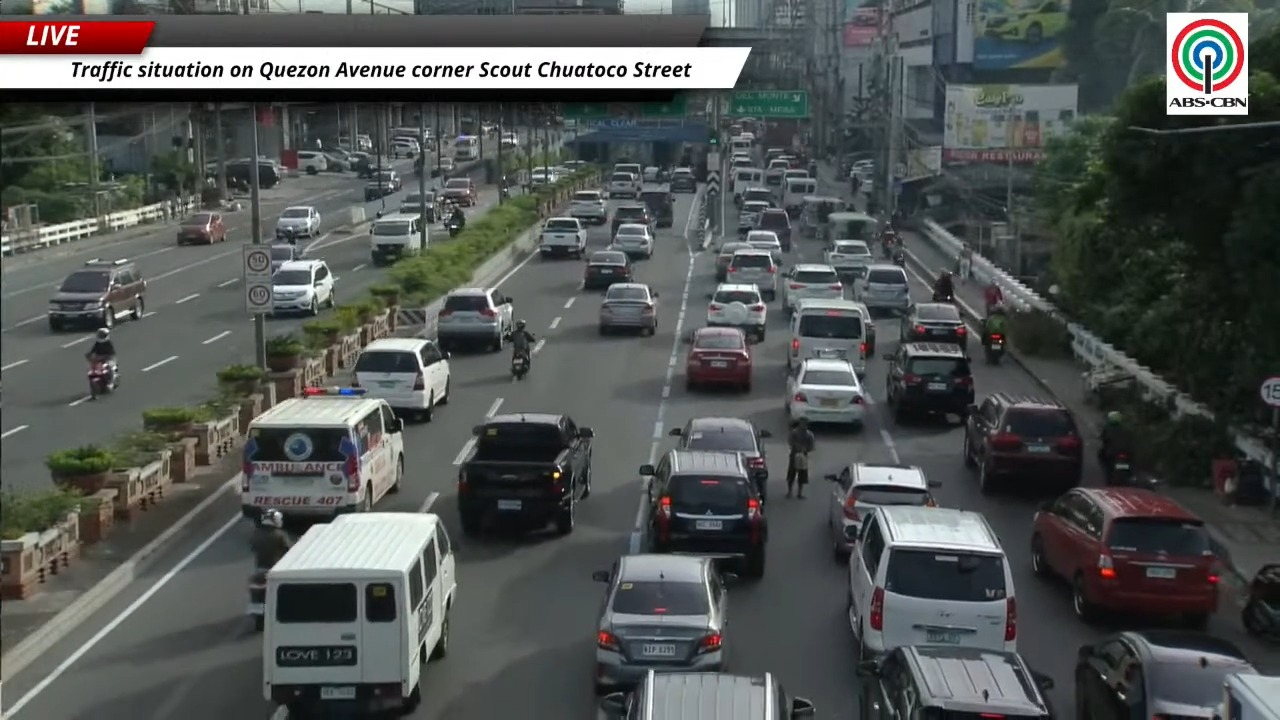bus: (454, 135, 479, 161)
car: (1031, 488, 1219, 626), (848, 506, 1016, 660), (592, 554, 727, 692), (1075, 629, 1257, 719), (640, 450, 767, 578), (856, 645, 1061, 719), (964, 392, 1083, 492), (824, 463, 940, 559), (600, 671, 814, 719), (669, 417, 770, 498), (352, 337, 450, 420), (884, 342, 974, 421), (47, 259, 145, 331), (788, 298, 876, 375), (784, 358, 866, 428), (437, 287, 513, 351), (686, 327, 752, 391), (982, 0, 1068, 46), (271, 259, 334, 315), (707, 283, 766, 341), (900, 302, 967, 348), (599, 283, 657, 334), (782, 264, 843, 312), (854, 263, 910, 312), (726, 249, 777, 301), (583, 250, 633, 289), (824, 239, 872, 279), (753, 207, 791, 251), (176, 212, 226, 245), (610, 223, 654, 258), (714, 241, 749, 281), (275, 206, 320, 237), (640, 186, 674, 227), (743, 230, 782, 265), (611, 204, 655, 235), (568, 190, 607, 224), (399, 190, 437, 222), (364, 169, 401, 201), (737, 200, 770, 235), (441, 177, 477, 206), (606, 171, 639, 198), (270, 243, 300, 272), (296, 150, 329, 174), (766, 156, 791, 187), (349, 151, 376, 178), (740, 188, 775, 207), (784, 159, 808, 185), (670, 168, 695, 192), (391, 138, 421, 157), (324, 149, 348, 172), (764, 147, 786, 162), (500, 132, 519, 148), (436, 158, 456, 173), (642, 167, 661, 182)
motorcycle: (1241, 563, 1280, 643), (246, 568, 266, 631), (87, 359, 117, 399), (1103, 451, 1135, 486), (985, 333, 1005, 364), (511, 353, 529, 380), (445, 219, 463, 237), (278, 228, 297, 245), (932, 290, 953, 303), (892, 249, 904, 267), (500, 183, 509, 199)
truck: (457, 413, 593, 536), (1219, 673, 1279, 719), (538, 216, 586, 258)
